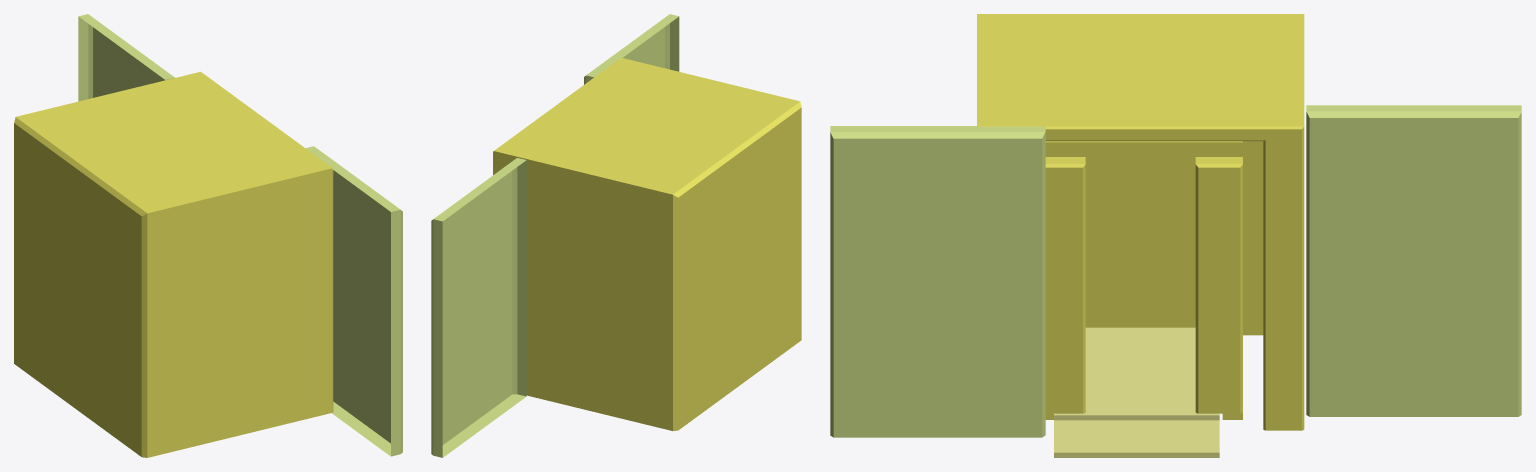
File: Elevator.fbx
3 renders of one model, left to right at view 1: azimuth 30°, elevation 25°; view 2: azimuth 150°, elevation 25°; view 3: azimuth 270°, elevation 25°, orthographic. The views are drawn at different scales.
Visible parts, largest first — view 1: ElevatorBase, ElevatorLwall, ElevatorLwall.001; view 2: ElevatorBase, ElevatorLwall.001, ElevatorLwall; view 3: ElevatorBase, ElevatorLwall.001, ElevatorLwall, ElevatorFloor.
Part boxes in pixels (<box>): ElevatorBase: <box>14,71,333,457</box>; ElevatorLwall: <box>305,146,402,456</box>; ElevatorLwall.001: <box>78,14,174,101</box>; ElevatorBase: <box>493,57,801,430</box>; ElevatorLwall.001: <box>431,158,526,457</box>; ElevatorLwall: <box>584,14,679,84</box>; ElevatorBase: <box>977,14,1304,430</box>; ElevatorLwall.001: <box>1306,105,1521,416</box>; ElevatorLwall: <box>830,126,1045,437</box>; ElevatorFloor: <box>1054,327,1219,457</box>.
Bounding box in the file's own units: 712 × 716 × 1472.
